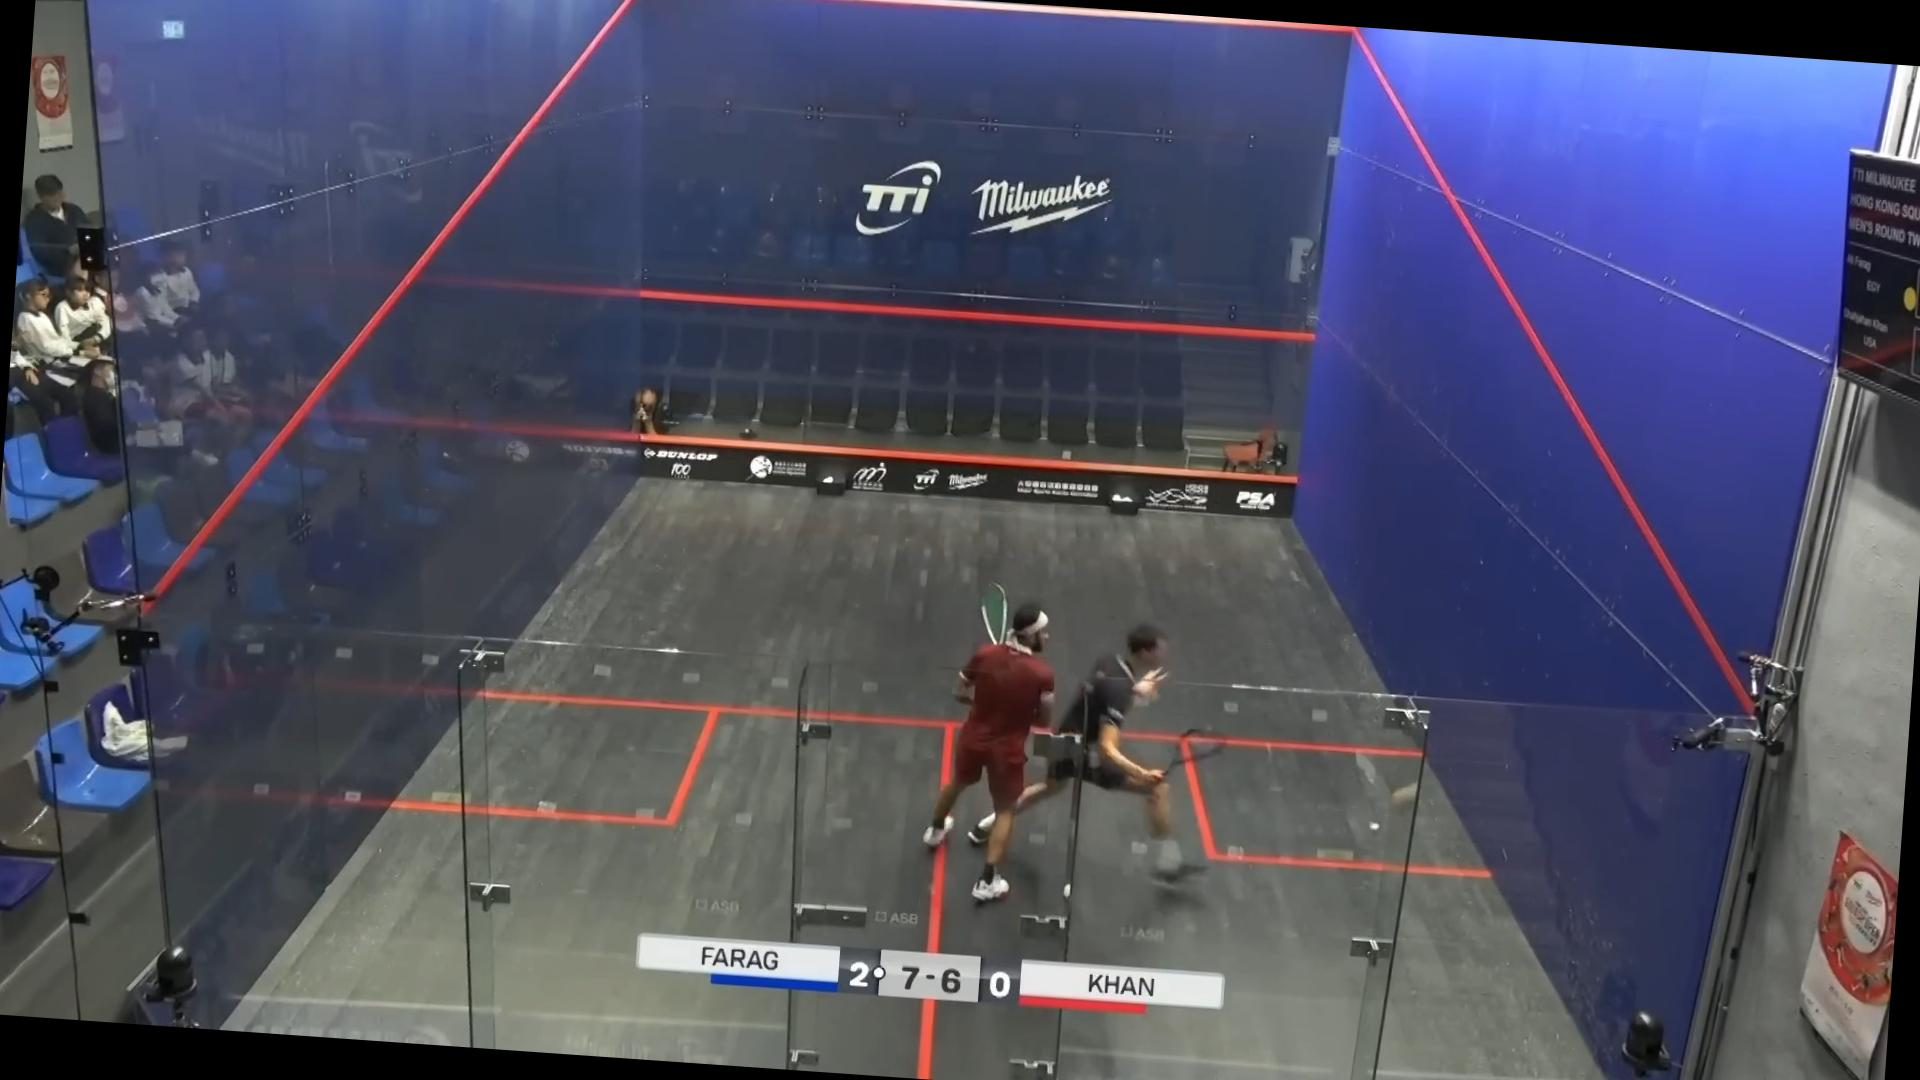Racket: (1118, 713, 1232, 790), (967, 584, 1011, 654)
